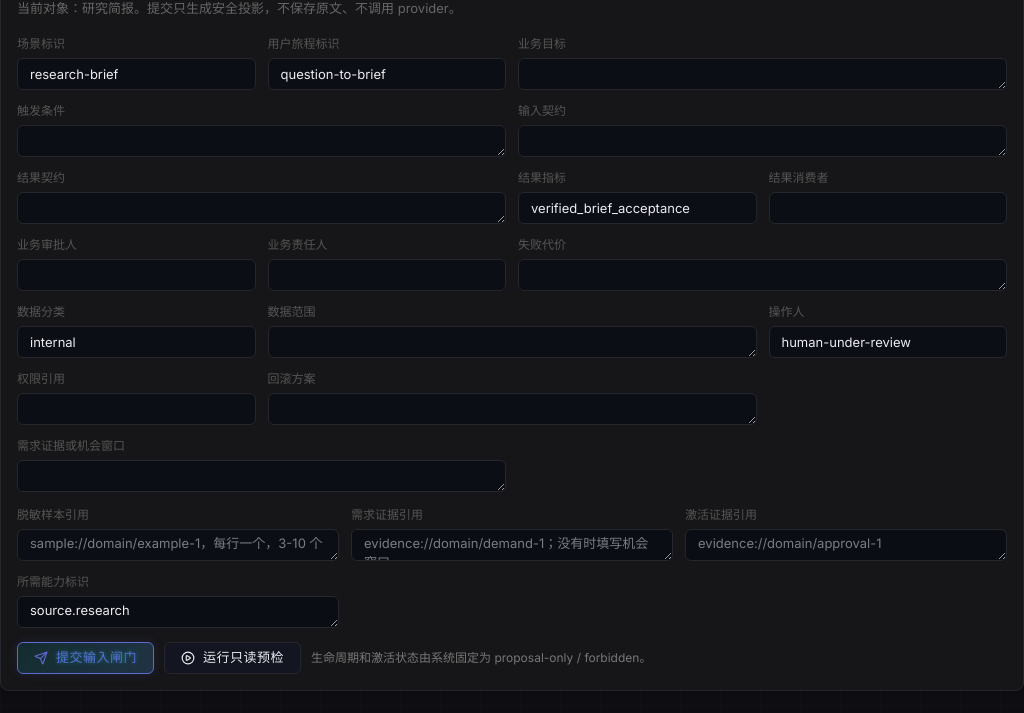
Test: SceneCardIntakePanel › shows blocked intake fields and does not expose activation action
This screenshot has width=1024, height=713.
Click the button with aria-label "提交 Scene Card 输入" at (86, 658), box [17,642,154,674]
(page scrolled)
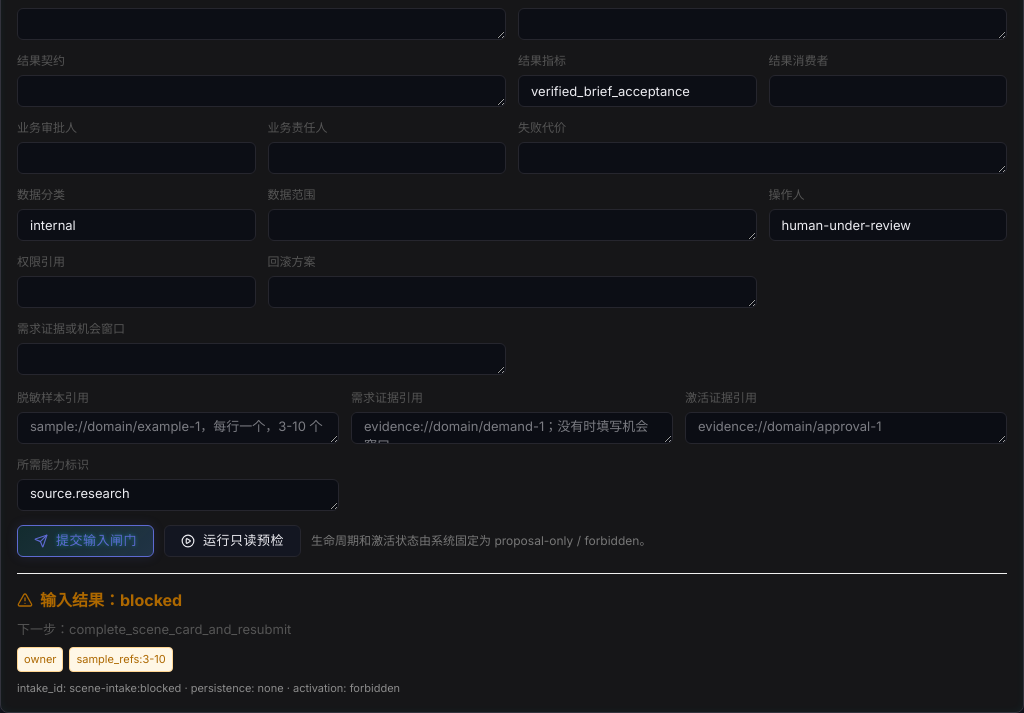
Expected: the text "输入结果：blocked" is shown, [40,588,182,612]
Expected: the text "owner" is shown, [17,647,64,672]
Expected: the text "sample_refs:3-10" is shown, [70,647,173,672]
